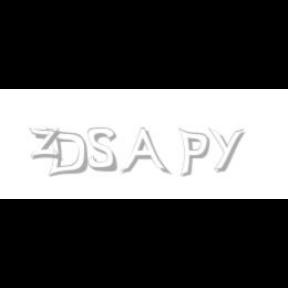A: (120, 128, 168, 176)
D: (44, 128, 88, 178)
P: (178, 128, 210, 178)
S: (88, 128, 119, 172)
y: (208, 128, 248, 172)
z: (29, 128, 65, 160)
